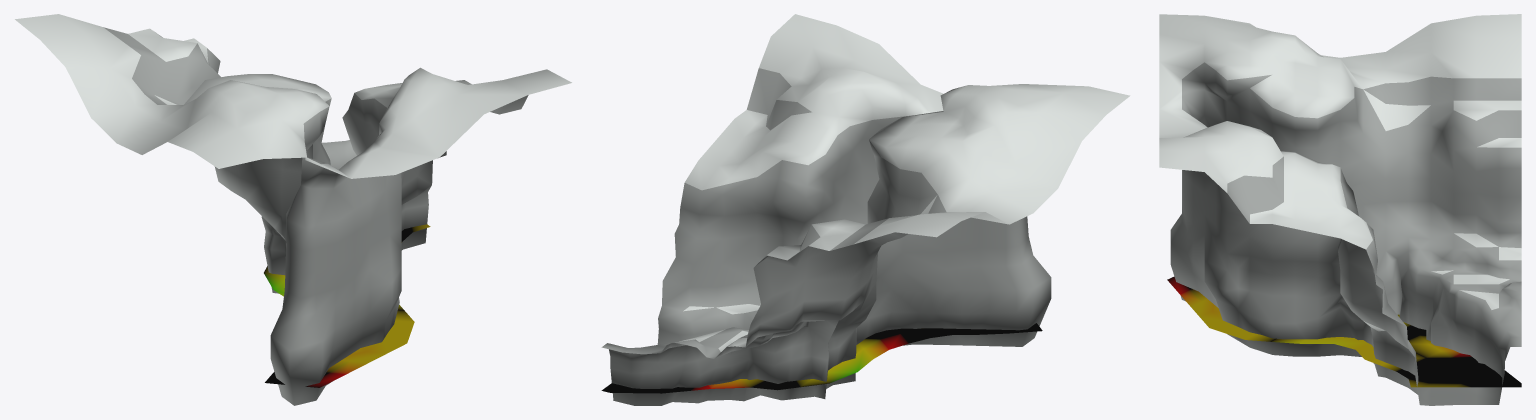
3 views of the same model, side by side, from view 1: azimuth 30°, elevation 25°; view 2: azimuth 150°, elevation 25°; view 3: azimuth 270°, elevation 25° (orthographic). The views are drawn at different scales.
Parts seen in each view (by area): view 1: G:\FFXIV-MapTools\exports\f1t2\bg\ffxiv\fst_f1\twn\f1t2\bgpl (×5); view 2: G:\FFXIV-MapTools\exports\f1t2\bg\ffxiv\fst_f1\twn\f1t2\bgpl (×6); view 3: G:\FFXIV-MapTools\exports\f1t2\bg\ffxiv\fst_f1\twn\f1t2\bgpl (×8).
Part boxes in pixels (box(x1,y1,x2,y2)): G:\FFXIV-MapTools\exports\f1t2\bg\ffxiv\fst_f1\twn\f1t2\bgpl (×5): box(15, 14, 571, 405); G:\FFXIV-MapTools\exports\f1t2\bg\ffxiv\fst_f1\twn\f1t2\bgpl (×6): box(601, 14, 1130, 405); G:\FFXIV-MapTools\exports\f1t2\bg\ffxiv\fst_f1\twn\f1t2\bgpl (×8): box(1159, 14, 1521, 405).
Size of the model in its own units: 64 by 50 by 64.
